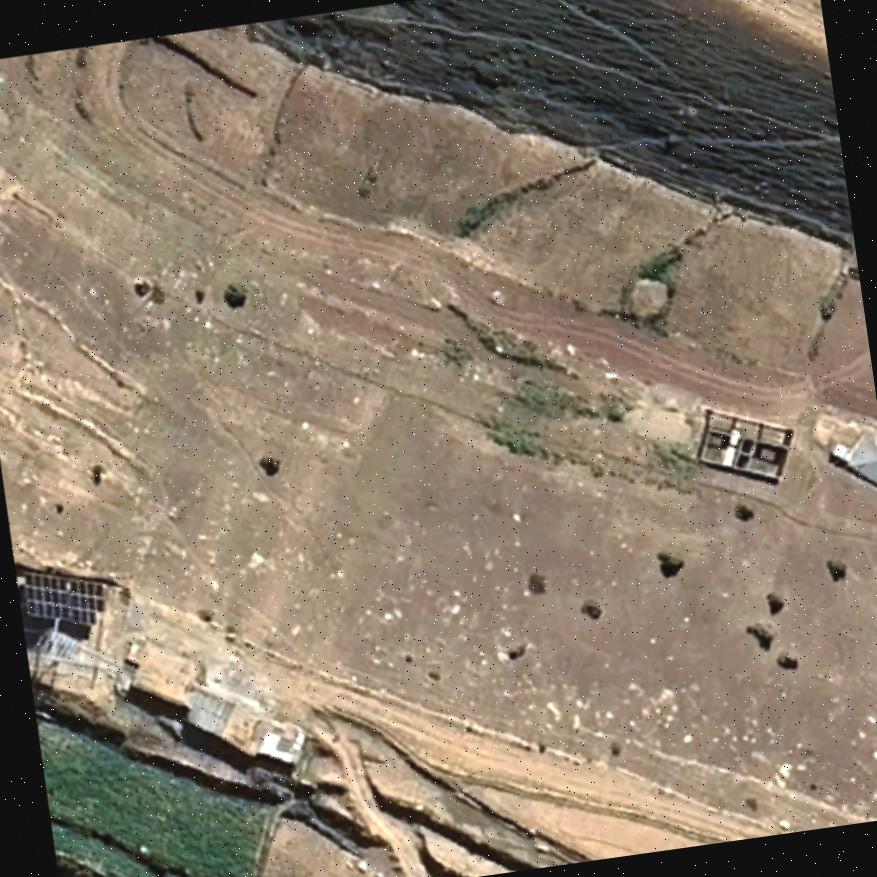Solarpanel: (19, 568, 113, 626)
